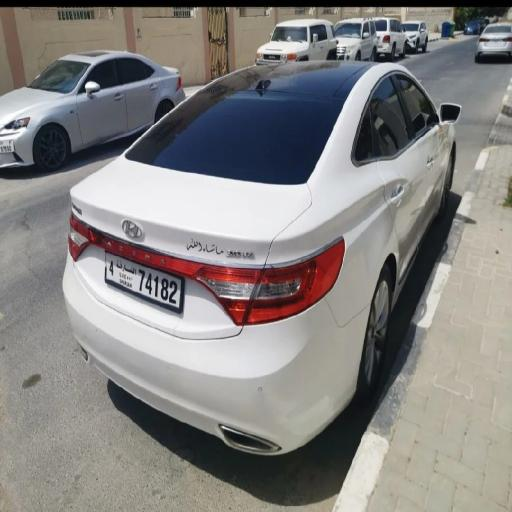license-plates: (106, 251, 182, 309), (0, 140, 15, 153)
